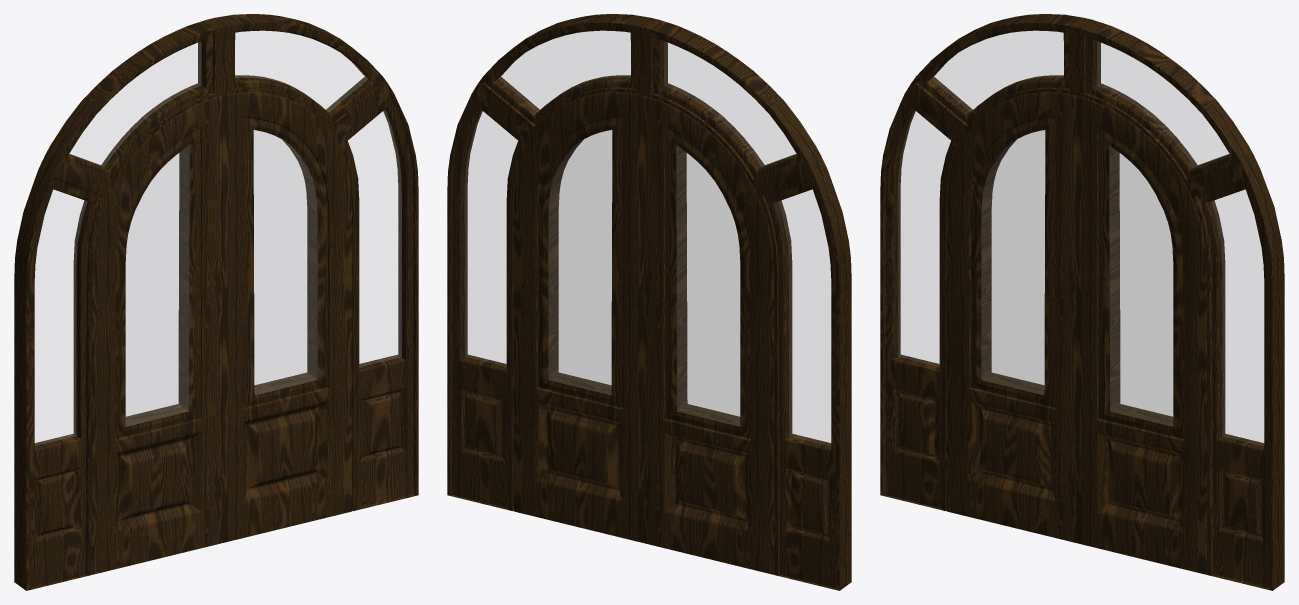
Rendered from castle-style-door-optimized.glb.
3 renders of one model, left to right at view 1: azimuth 30°, elevation 25°; view 2: azimuth 150°, elevation 25°; view 3: azimuth 330°, elevation 25°, orthographic.
Parts seen in each view (by area): view 1: Frame, Frame.002, Frame.001; view 2: Frame, Frame.002, Frame.001; view 3: Frame, Frame.001, Frame.002.
Boxes of the visible parts, <box> form: Frame: <box>14,14,418,590</box>; Frame.002: <box>92,96,222,574</box>; Frame.001: <box>222,92,352,542</box>; Frame: <box>447,14,851,590</box>; Frame.002: <box>643,96,773,574</box>; Frame.001: <box>513,92,643,542</box>; Frame: <box>880,14,1284,590</box>; Frame.001: <box>1076,96,1206,574</box>; Frame.002: <box>946,92,1076,542</box>.
Bounding box in the file's own units: 2.12 × 2.67 × 0.1133.
2 materials, 1 textured.
